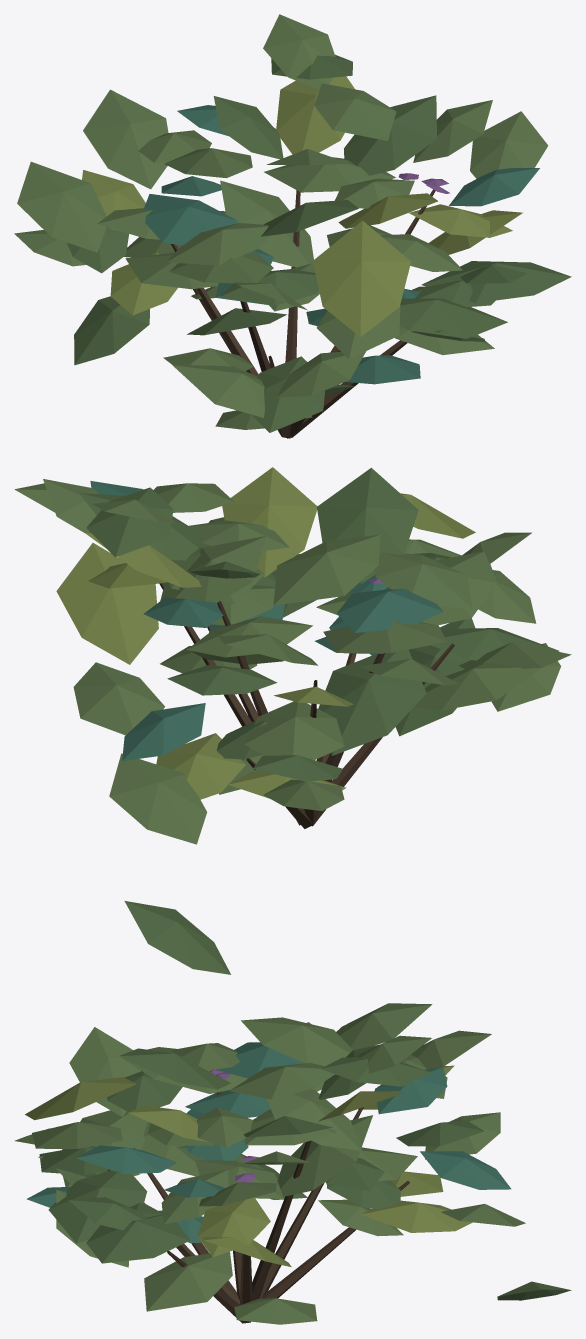
Rendered from border_shrub_a.glb.
3 renders of one model, top to bottom at view 1: azimuth 30°, elevation 25°; view 2: azimuth 150°, elevation 25°; view 3: azimuth 270°, elevation 25°, orthographic. The views are drawn at different scales.
Parts seen in each view (by area): view 1: border_shrub_a; view 2: border_shrub_a; view 3: border_shrub_a.
Part boxes in pixels (box(x1,y1,x2,y2)): border_shrub_a: box(14, 14, 571, 438); border_shrub_a: box(14, 467, 571, 974); border_shrub_a: box(14, 1003, 571, 1324).
Size of the model in its own units: 1.24 by 0.9138 by 1.36.
